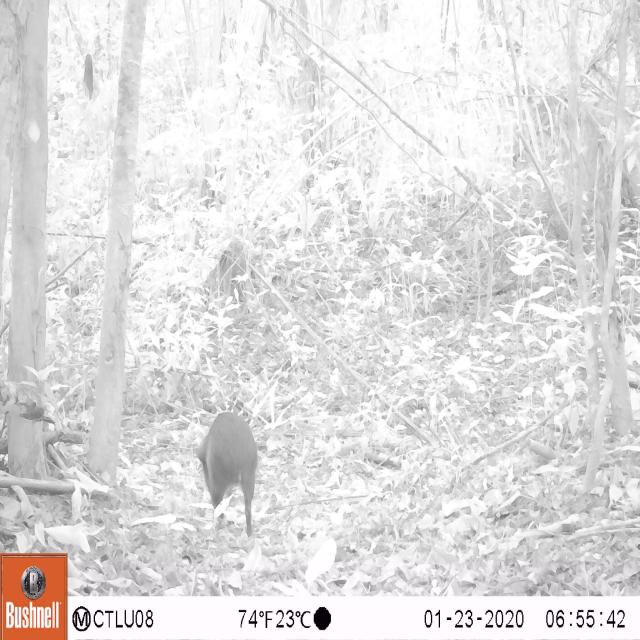Black Agouti: (192, 409, 268, 547)
